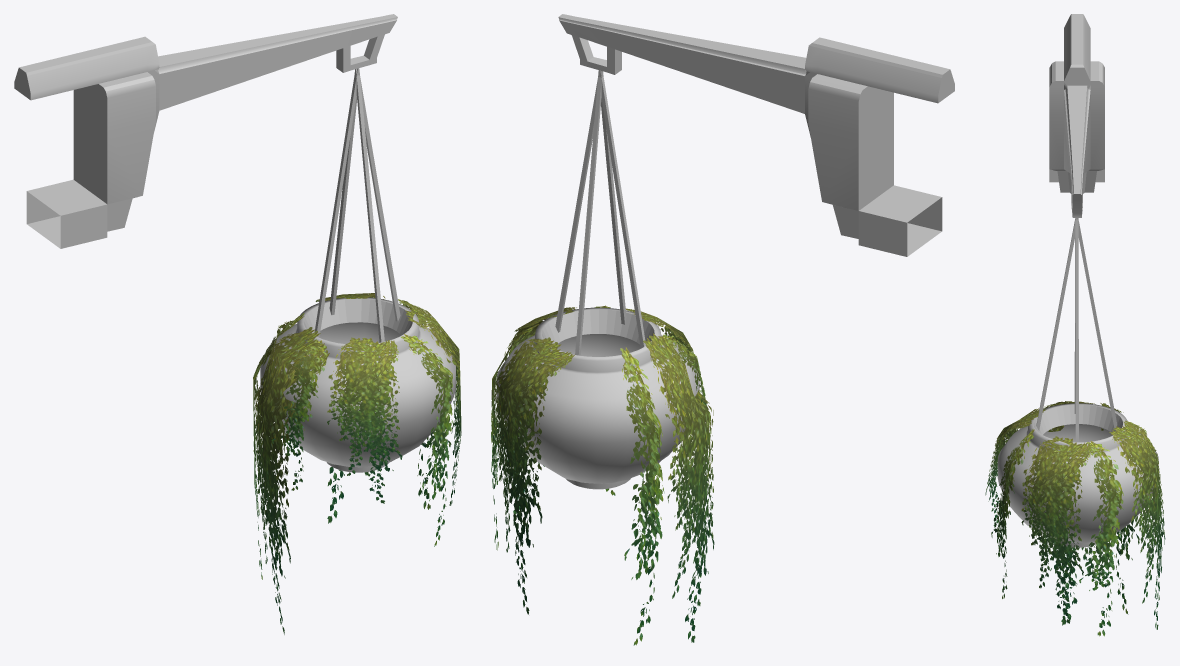
File: HangingPlant.fbx
3 views of the same model, side by side, from view 1: azimuth 30°, elevation 25°; view 2: azimuth 150°, elevation 25°; view 3: azimuth 270°, elevation 25° (orthographic). The views are drawn at different scales.
Parts seen in each view (by area): view 1: polySurface267; view 2: polySurface267; view 3: polySurface267.
Boxes of the visible parts, x1=… form: polySurface267: x1=14, y1=14, x2=461, y2=634; polySurface267: x1=491, y1=14, x2=954, y2=645; polySurface267: x1=985, y1=14, x2=1165, y2=636.
Bounding box in the file's own units: 306 × 421 × 135.
